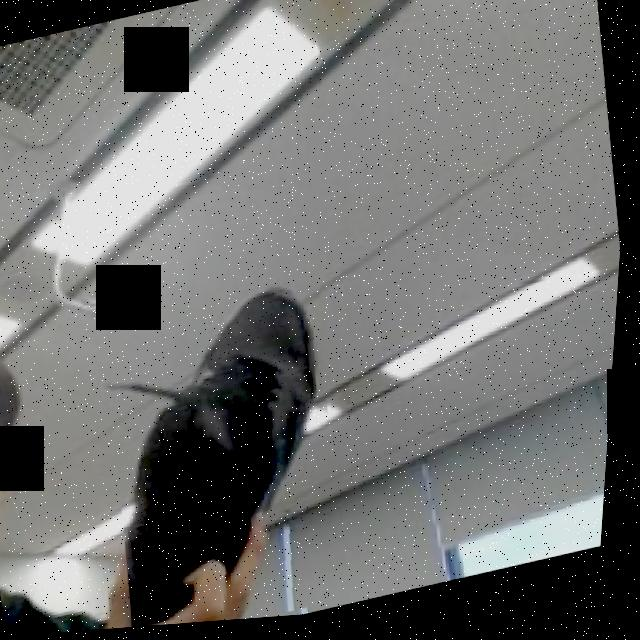shoe: (92, 270, 377, 633)
